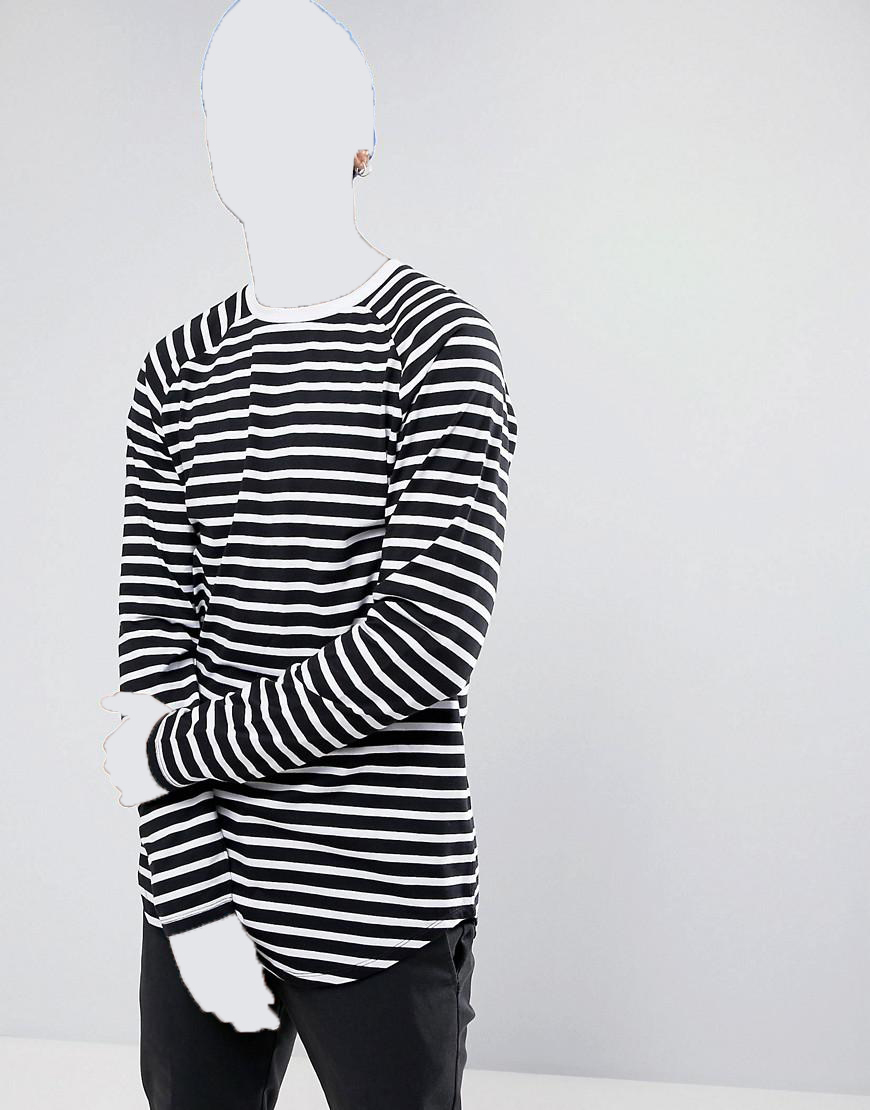teeshirt: (95, 266, 522, 986)
